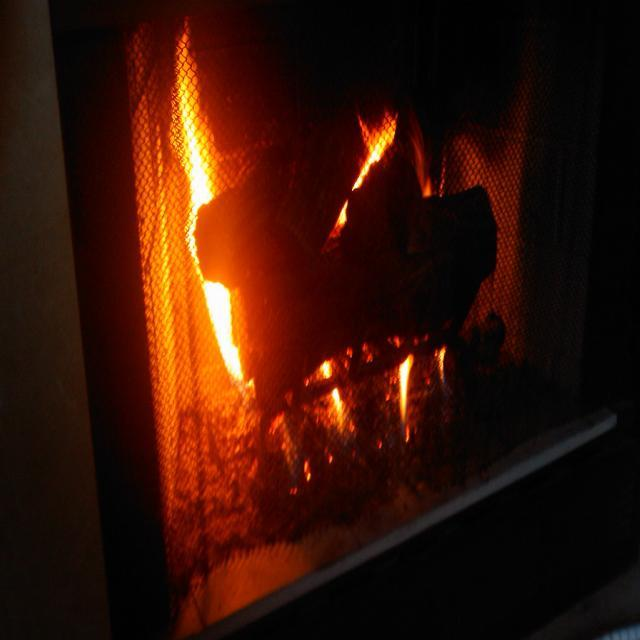Fire: (205, 282, 245, 366), (182, 112, 210, 204)
